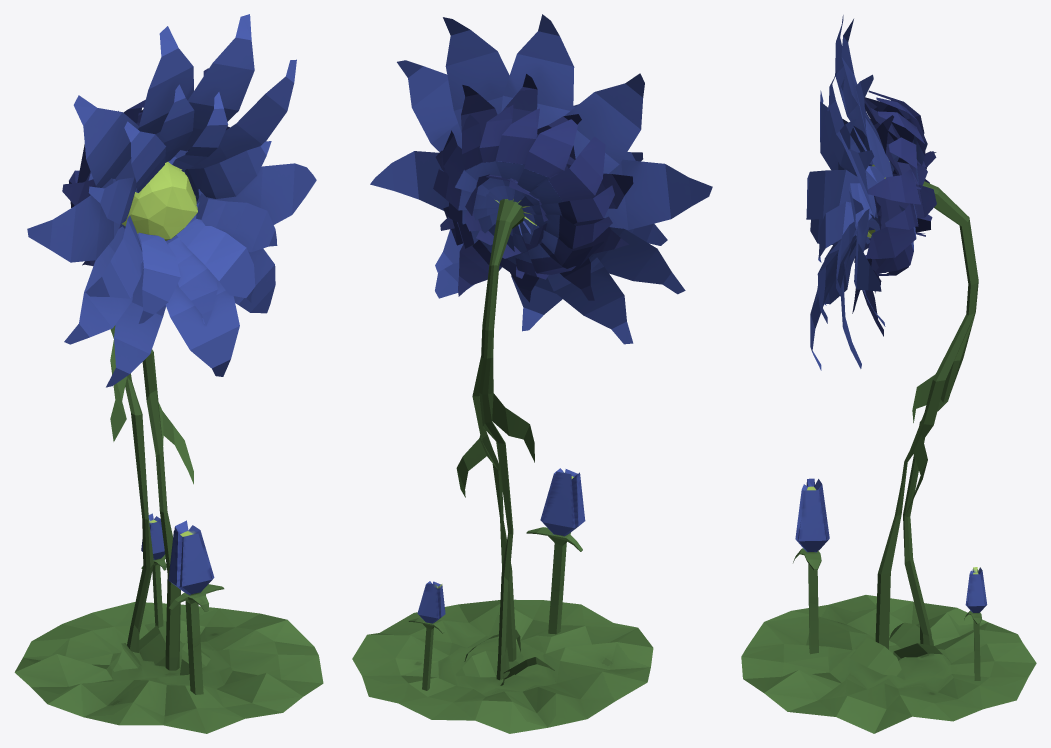
File: flower02.glb
3 renders of one model, left to right at view 1: azimuth 30°, elevation 25°; view 2: azimuth 150°, elevation 25°; view 3: azimuth 270°, elevation 25°, orthographic. The views are drawn at different scales.
Visible parts, largest first — view 1: base, child_large, child_small; view 2: base, child_large, child_small; view 3: base, child_large, child_small.
Part boxes in pixels (x1=…): base: x1=14, y1=14, x2=323, y2=733; child_large: x1=168, y1=520, x2=224, y2=694; child_small: x1=141, y1=513, x2=166, y2=627; base: x1=352, y1=14, x2=712, y2=733; child_large: x1=526, y1=468, x2=585, y2=634; child_small: x1=408, y1=581, x2=445, y2=690; base: x1=741, y1=15, x2=1036, y2=733; child_large: x1=793, y1=478, x2=829, y2=654; child_small: x1=964, y1=567, x2=987, y2=680.
Size of the model in its own units: 0.5281 by 1.06 by 0.4373.
Materials: 1 (1 with a texture image).
